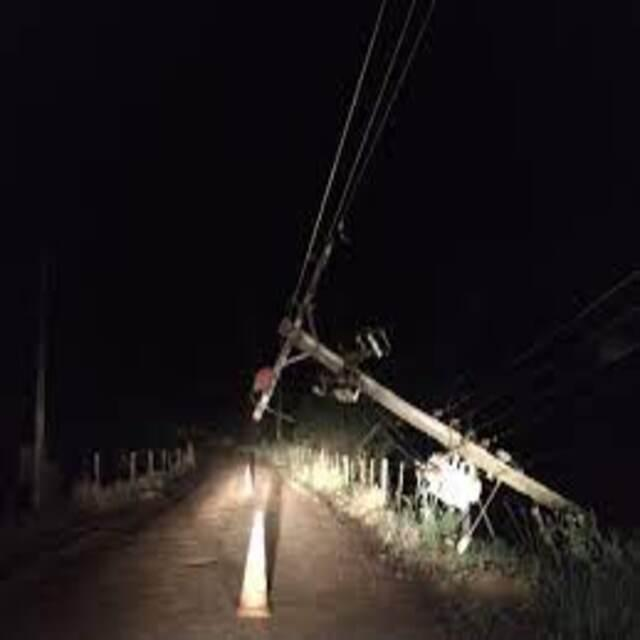Inclined Pole: (247, 212, 596, 567)
